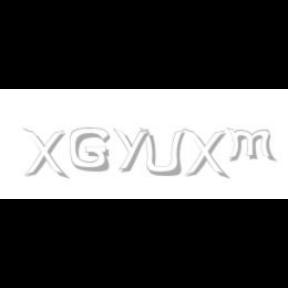G: (70, 128, 110, 172)
U: (140, 128, 184, 178)
X: (22, 128, 66, 180), (183, 128, 227, 180)
m: (225, 128, 277, 162)
y: (113, 128, 153, 172)
